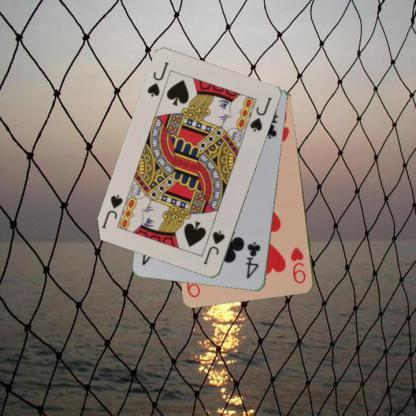4c: (244, 239, 262, 280)
9h: (288, 244, 308, 284)
Js: (144, 59, 170, 99), (200, 228, 226, 266)
